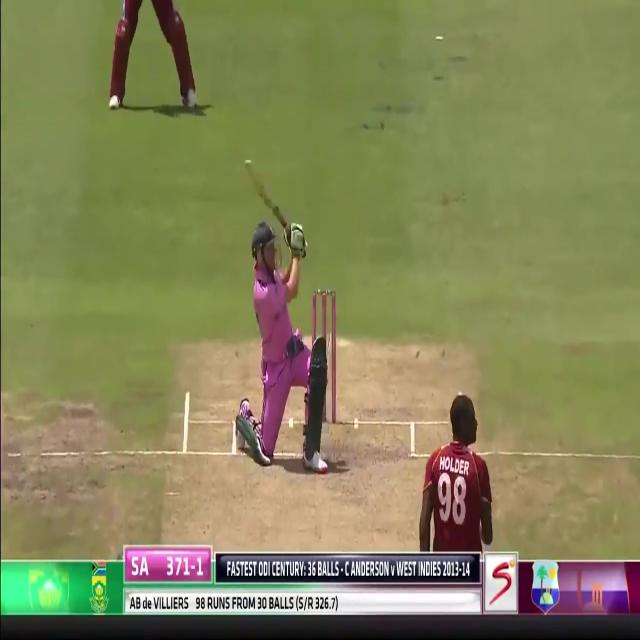Ball: (226, 190, 330, 472)
Fielder: (421, 384, 501, 566), (108, 1, 154, 111)
